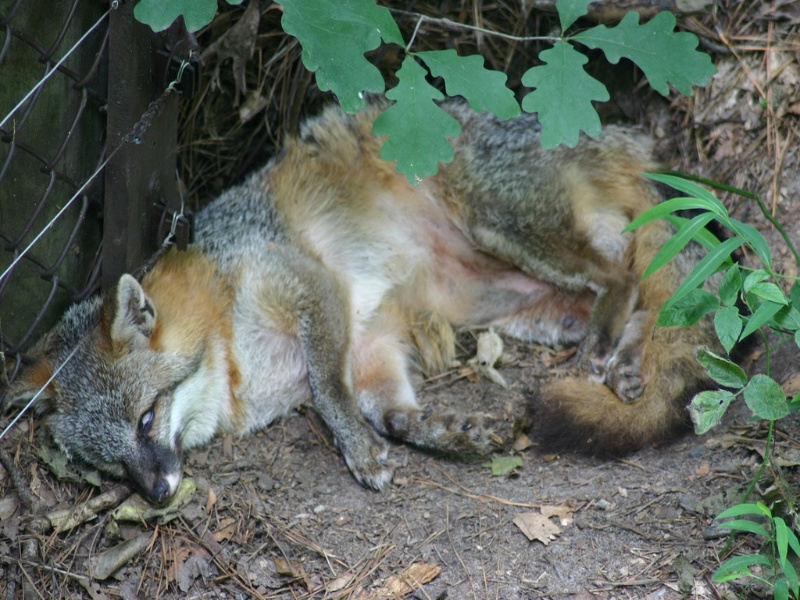fox: (43, 83, 699, 494)
